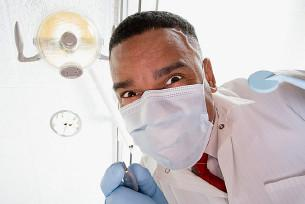OK: (111, 66, 215, 170)
